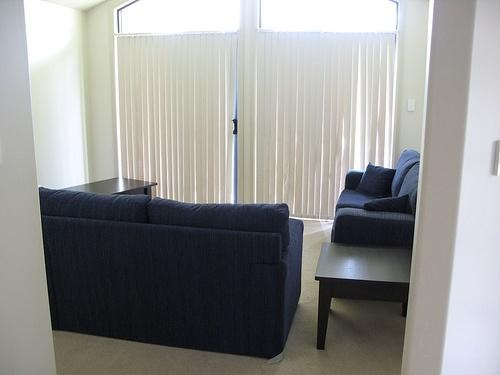sofa: (38, 188, 304, 360), (331, 148, 426, 247)
